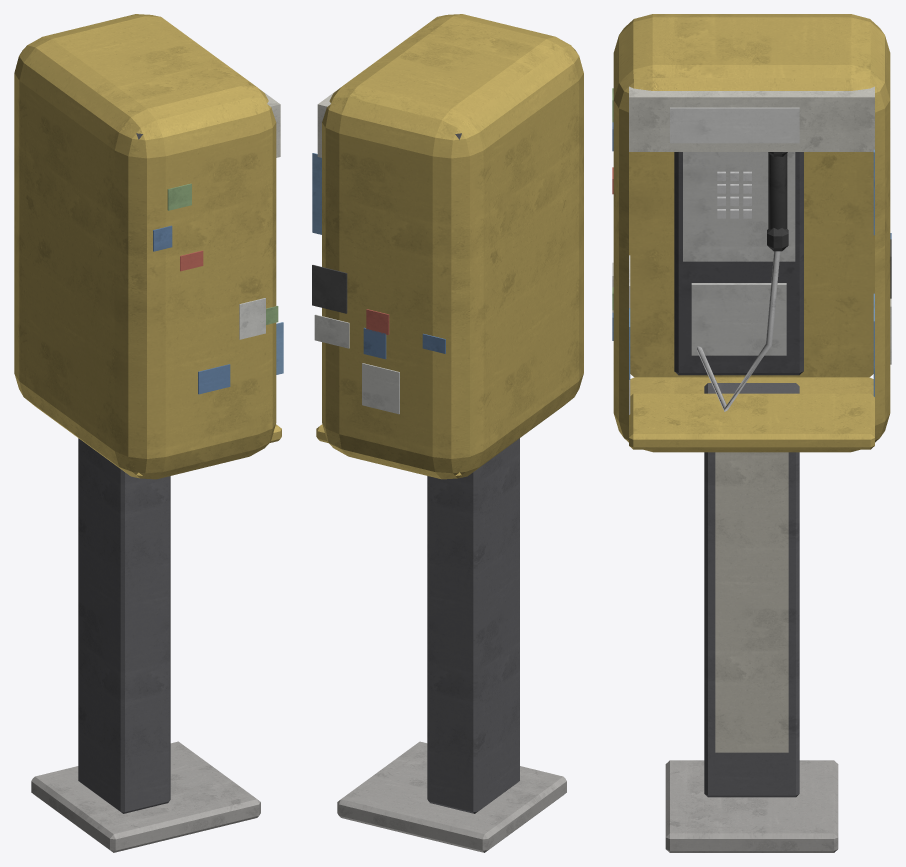
The model's file is BC2_PAYPHONE01.glb.
3 views of the same model, side by side, from view 1: azimuth 30°, elevation 25°; view 2: azimuth 150°, elevation 25°; view 3: azimuth 270°, elevation 25° (orthographic). The views are drawn at different scales.
Parts seen in each view (by area): view 1: BC2_PAYPHONE01_paint, BC2_PAYPHONE01_dark; view 2: BC2_PAYPHONE01_paint, BC2_PAYPHONE01_dark; view 3: BC2_PAYPHONE01_paint, BC2_PAYPHONE01_dark, BC2_PAYPHONE01_steel.
Part boxes in pixels (<box>): BC2_PAYPHONE01_paint: <box>14,14,281,479</box>; BC2_PAYPHONE01_dark: <box>31,133,283,852</box>; BC2_PAYPHONE01_paint: <box>316,14,583,479</box>; BC2_PAYPHONE01_dark: <box>312,133,566,852</box>; BC2_PAYPHONE01_paint: <box>613,14,890,752</box>; BC2_PAYPHONE01_dark: <box>612,88,891,852</box>; BC2_PAYPHONE01_steel: <box>683,152,795,411</box>.
Bounding box in the file's own units: 0.4454 × 1.98 × 0.647.
3 materials, 3 textured.
